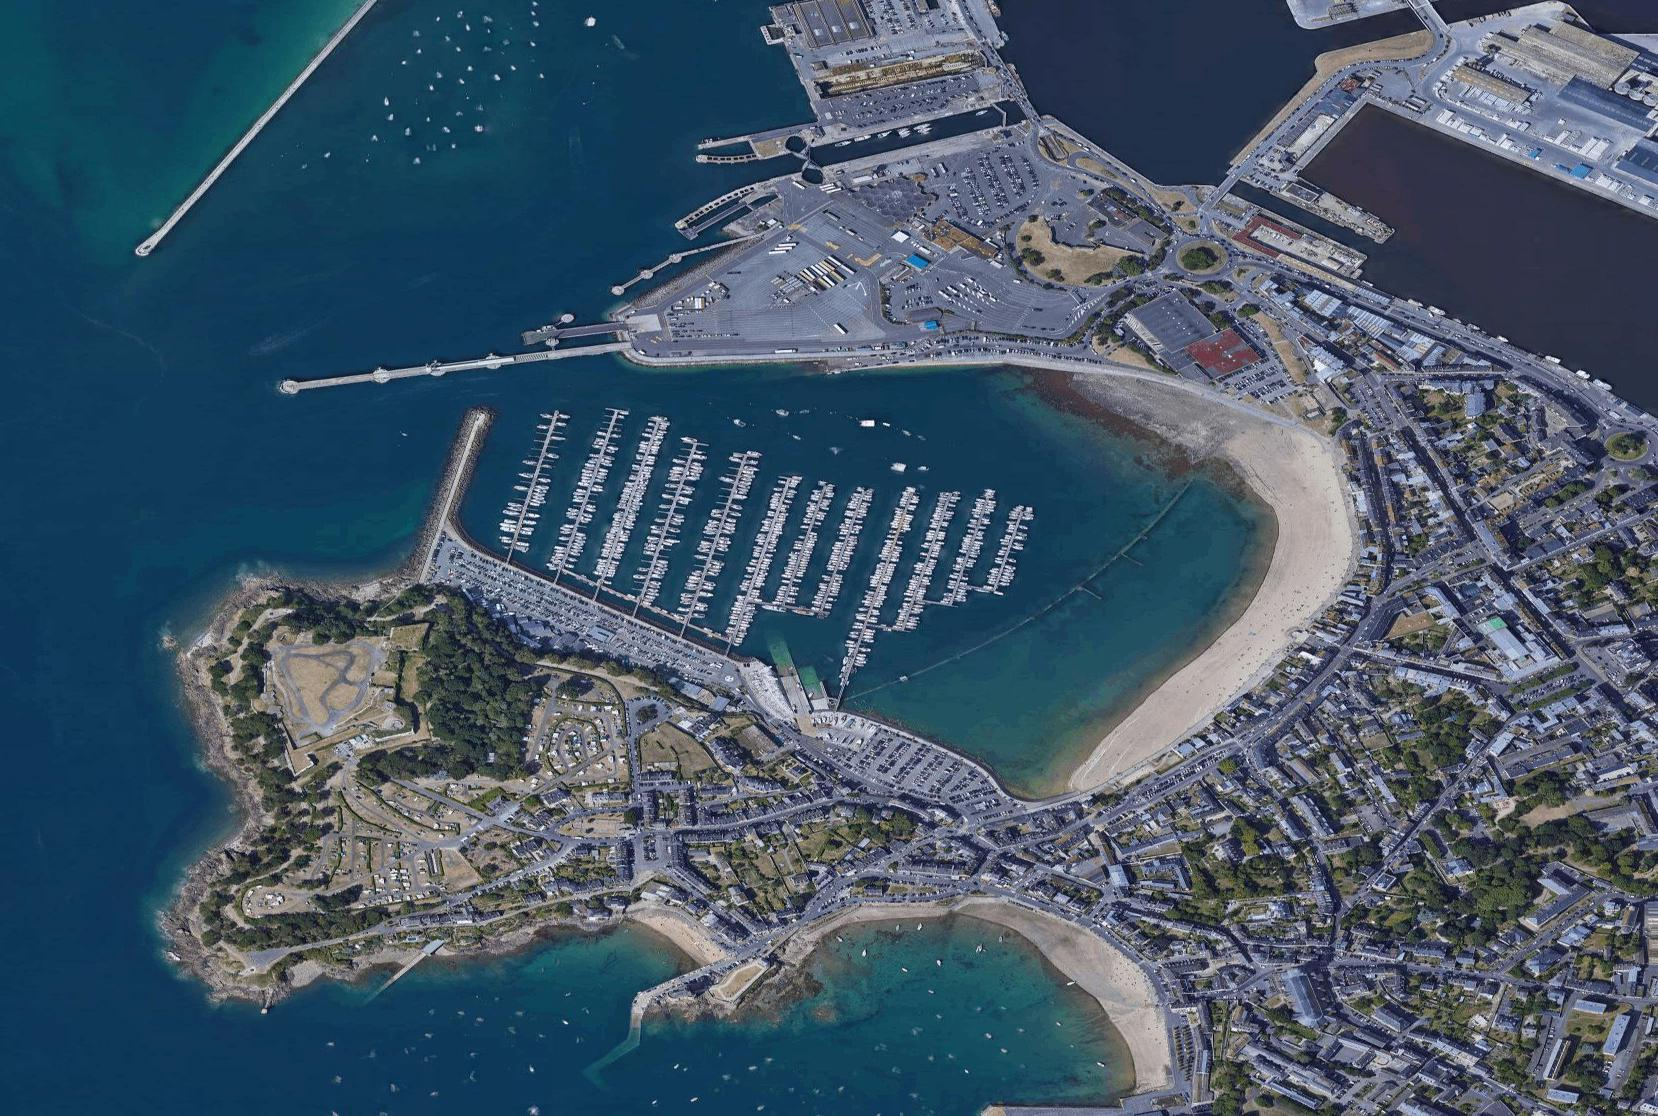harbor: (253, 1, 1319, 817)
